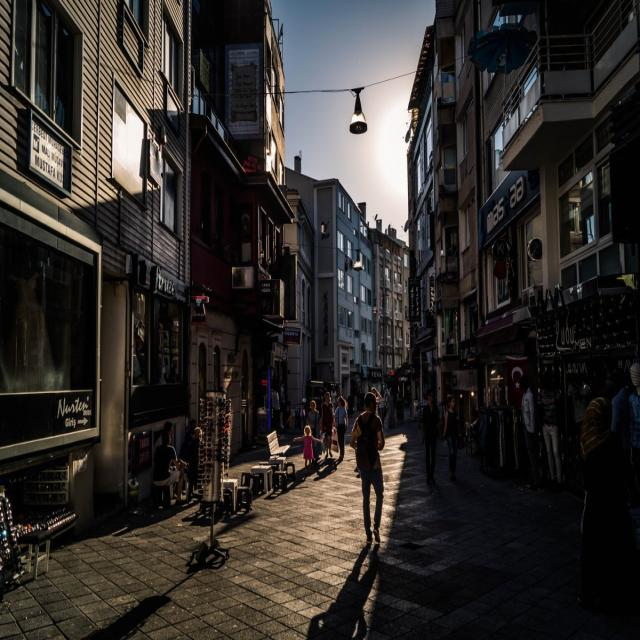body: (510, 356, 640, 597), (268, 379, 404, 437), (348, 389, 387, 546), (150, 420, 185, 504), (149, 430, 184, 508), (420, 388, 443, 486), (441, 395, 466, 482), (185, 426, 208, 499), (292, 423, 324, 473), (319, 390, 336, 460), (332, 394, 348, 460), (306, 400, 320, 468), (370, 386, 382, 416)
